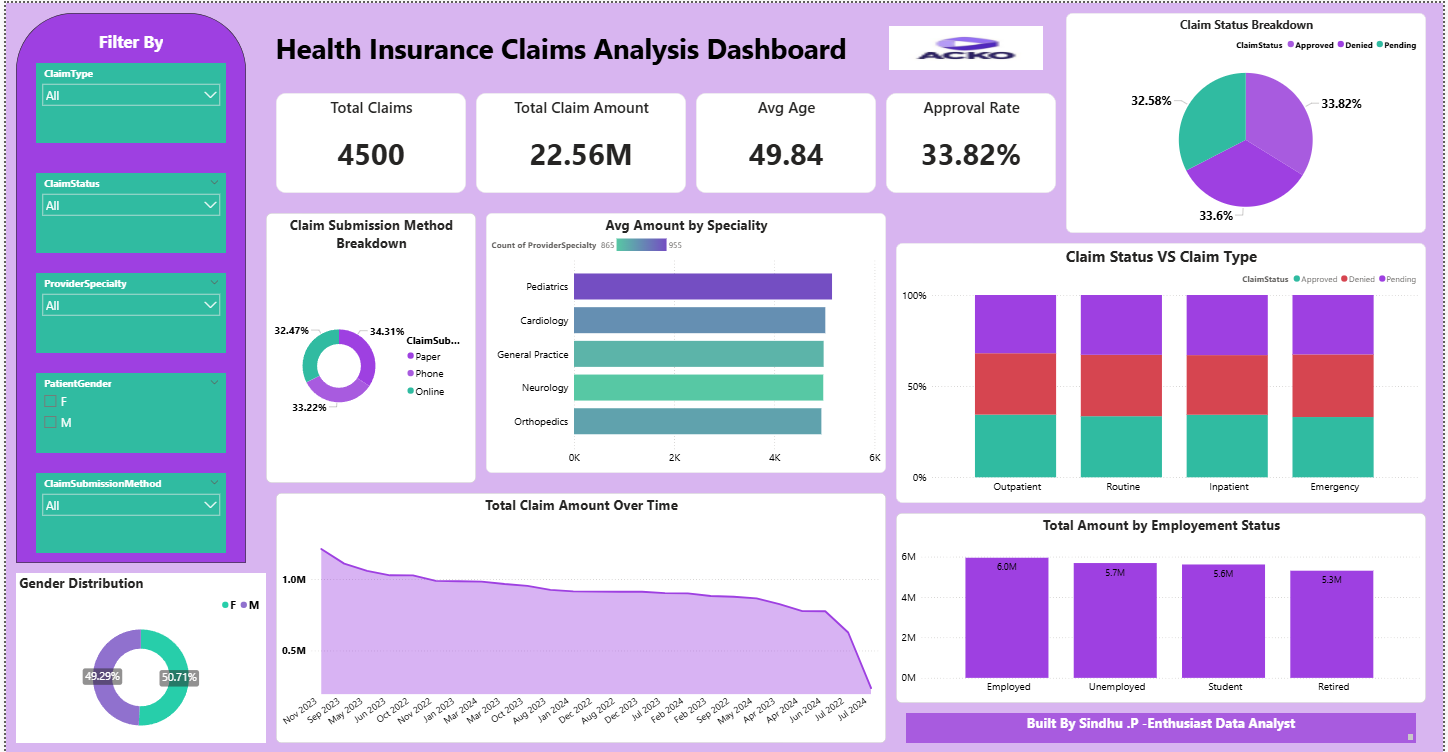

The page's visual inventory and layout, read from the dashboard file:
{"tool":"powerbi","page":{"name":"Health Insurance","canvas":[2300,1200],"ordinal":0},"visuals":[{"type":"pieChart","title":"Claim Status Breakdown","fields":{"Y":["enhanced_health_insurance_claims.ClaimID"],"Category":["enhanced_health_insurance_claims.ClaimStatus"]},"box":[1696,16,576,352],"z":0},{"type":"clusteredBarChart","title":"Avg Amount by Speciality","fields":{"Category":["enhanced_health_insurance_claims.ProviderSpecialty"],"Y":["enhanced_health_insurance_claims.ClaimAmount"]},"box":[768,336,640,416],"z":1000},{"type":"hundredPercentStackedColumnChart","title":"Claim Status VS Claim Type","fields":{"Category":["enhanced_health_insurance_claims.ClaimType"],"Series":["enhanced_health_insurance_claims.ClaimStatus"],"Y":["enhanced_health_insurance_claims.ClaimID"]},"box":[1424,384,848,416],"z":2000},{"type":"areaChart","title":"Total Claim Amount Over Time","fields":{"Category":["enhanced_health_insurance_claims.ClaimMonth"],"Y":["enhanced_health_insurance_claims.ClaimAmount"]},"box":[432,784,976,400],"z":3000},{"type":"clusteredColumnChart","title":"Total Amount by Employement Status","fields":{"Category":["enhanced_health_insurance_claims.PatientEmploymentStatus"],"Y":["enhanced_health_insurance_claims.ClaimAmount"]},"box":[1424,816,848,304],"z":4000},{"type":"donutChart","title":"Claim Submission Method Breakdown","fields":{"Y":["enhanced_health_insurance_claims.ClaimID"],"Category":["enhanced_health_insurance_claims.ClaimSubmissionMethod"]},"box":[416,336,336,432],"z":5000},{"type":"card","title":"Total Claim Amount","fields":{"Values":["enhanced_health_insurance_claims.ClaimAmount"]},"box":[752,144,336,160],"z":6000},{"type":"card","title":"Total Claims","fields":{"Values":["enhanced_health_insurance_claims.ClaimID"]},"box":[432,144,304,160],"z":7000},{"type":"card","title":"Avg Age","fields":{"Values":["enhanced_health_insurance_claims.PatientAge"]},"box":[1104,144,288,160],"z":8000},{"type":"shape","box":[16,16,368,880],"z":9000},{"type":"slicer","fields":{"Values":["enhanced_health_insurance_claims.ClaimType"]},"box":[48,96,304,128],"z":10000},{"type":"slicer","fields":{"Values":["enhanced_health_insurance_claims.ClaimStatus"]},"box":[48,272,304,128],"z":11000},{"type":"slicer","fields":{"Values":["enhanced_health_insurance_claims.ProviderSpecialty"]},"box":[48,432,304,128],"z":12000},{"type":"slicer","fields":{"Values":["enhanced_health_insurance_claims.PatientGender"]},"box":[48,592,304,128],"z":13000},{"type":"slicer","fields":{"Values":["enhanced_health_insurance_claims.ClaimSubmissionMethod"]},"box":[48,752,304,128],"z":14000},{"type":"textbox","title":"Built By Sindhu .P -Enthusiast Data Analyst","box":[1440,1136,816,48],"z":15000},{"type":"shape","box":[416,0,944,144],"z":16000},{"type":"card","title":"Approval Rate","fields":{"Values":["enhanced_health_insurance_claims.ApprovalRate"]},"box":[1408,144,272,160],"z":16001},{"type":"donutChart","title":"Gender Distribution","fields":{"Category":["enhanced_health_insurance_claims.PatientGender"],"Y":["enhanced_health_insurance_claims.ClaimID"]},"box":[16,912,400,272],"z":16002},{"type":"image","box":[1408,32,256,80],"z":16003}]}

Visuals, with their boxes in screenshot pixels (x1, y1, x2, y2), scaled from the page's 2300x1200 canvas onto the 1448x752 screenshot:
"Claim Status Breakdown" pieChart: (1068,10,1430,231)
"Avg Amount by Speciality" clusteredBarChart: (484,211,886,471)
"Claim Status VS Claim Type" hundredPercentStackedColumnChart: (897,241,1430,501)
"Total Claim Amount Over Time" areaChart: (272,491,886,742)
"Total Amount by Employement Status" clusteredColumnChart: (897,511,1430,702)
"Claim Submission Method Breakdown" donutChart: (262,211,473,481)
"Total Claim Amount" card: (473,90,685,191)
"Total Claims" card: (272,90,463,191)
"Avg Age" card: (695,90,876,191)
shape: (10,10,242,561)
slicer - enhanced_health_insurance_claims.ClaimType: (30,60,222,140)
slicer - enhanced_health_insurance_claims.ClaimStatus: (30,170,222,251)
slicer - enhanced_health_insurance_claims.ProviderSpecialty: (30,271,222,351)
slicer - enhanced_health_insurance_claims.PatientGender: (30,371,222,451)
slicer - enhanced_health_insurance_claims.ClaimSubmissionMethod: (30,471,222,551)
"Built By Sindhu .P -Enthusiast Data Analyst" textbox: (907,712,1420,742)
shape: (262,0,856,90)
"Approval Rate" card: (886,90,1058,191)
"Gender Distribution" donutChart: (10,572,262,742)
image: (886,20,1048,70)
